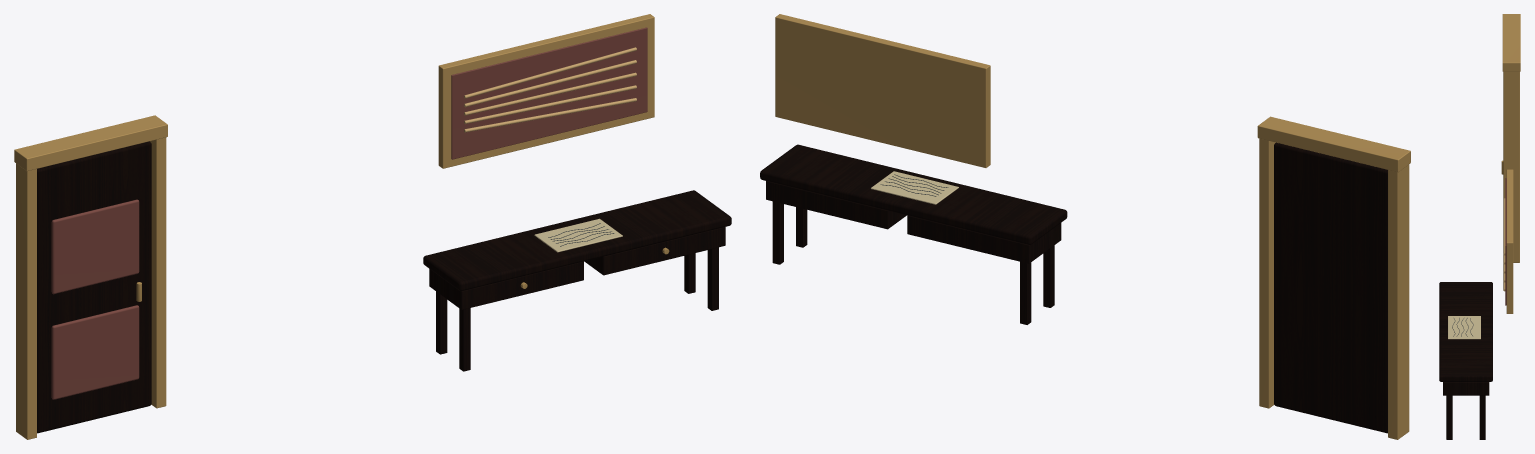
File: south.glb
The picture shows the model from 3 angles, left to right: view 1: azimuth 30°, elevation 25°; view 2: azimuth 150°, elevation 25°; view 3: azimuth 270°, elevation 25°; orthographic projection. The views are drawn at different scales.
Visible parts, largest first — view 1: victorian-study south; view 2: victorian-study south; view 3: victorian-study south.
Boxes of the visible parts, x1,y1,x2,y2 form: victorian-study south: (14,14,731,439); victorian-study south: (760,14,1410,439); victorian-study south: (1439,14,1520,439).
Bounding box in the file's own units: 6.55 × 2.67 × 0.985.
6 materials, 1 textured.
